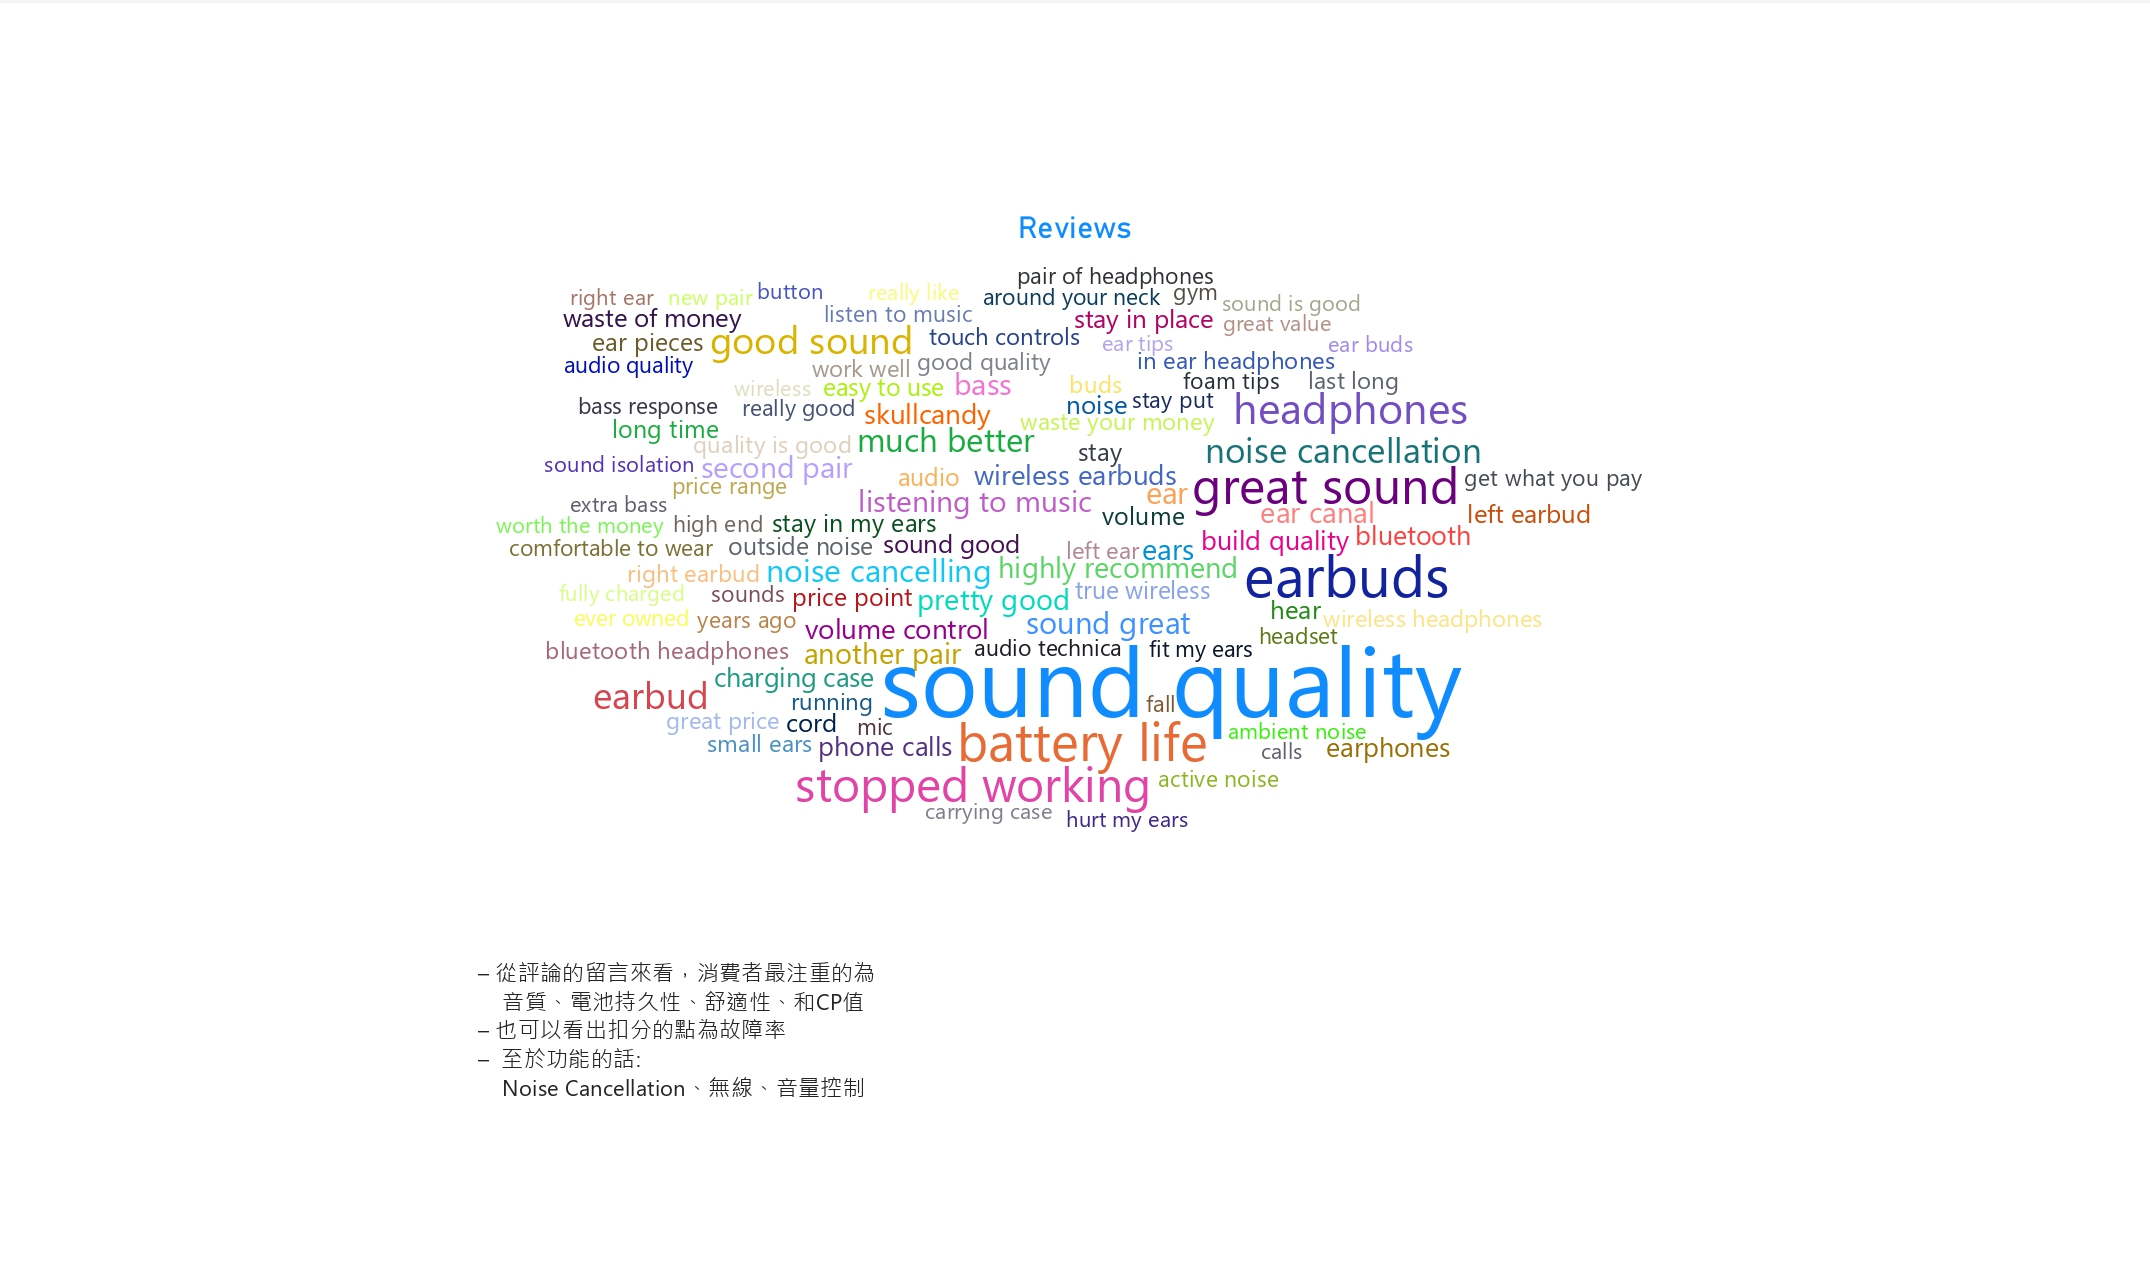

The page's visual inventory and layout, read from the dashboard file:
{"tool":"powerbi","page":{"name":"Word Cloud","canvas":[1280,720],"ordinal":7},"visuals":[{"type":"WordCloud1447959067750","title":"Reviews","fields":{"Category":["Words_Data.Words"],"Values":["Max(Words_Data.Counts)"]},"box":[279.5,104.3,720.8,440.5],"z":0},{"type":"textbox","box":[279.5,544.8,299.5,175.2],"z":1}]}

Visuals, with their boxes on the page's 1280x720 design canvas (x1, y1, x2, y2). These are canvas units, not pixel positions in the 2150x1275 screenshot, which may show the page scaled, cropped or inside an application window:
"Reviews" WordCloud1447959067750: 280/104/1000/545
textbox: 280/545/579/720
